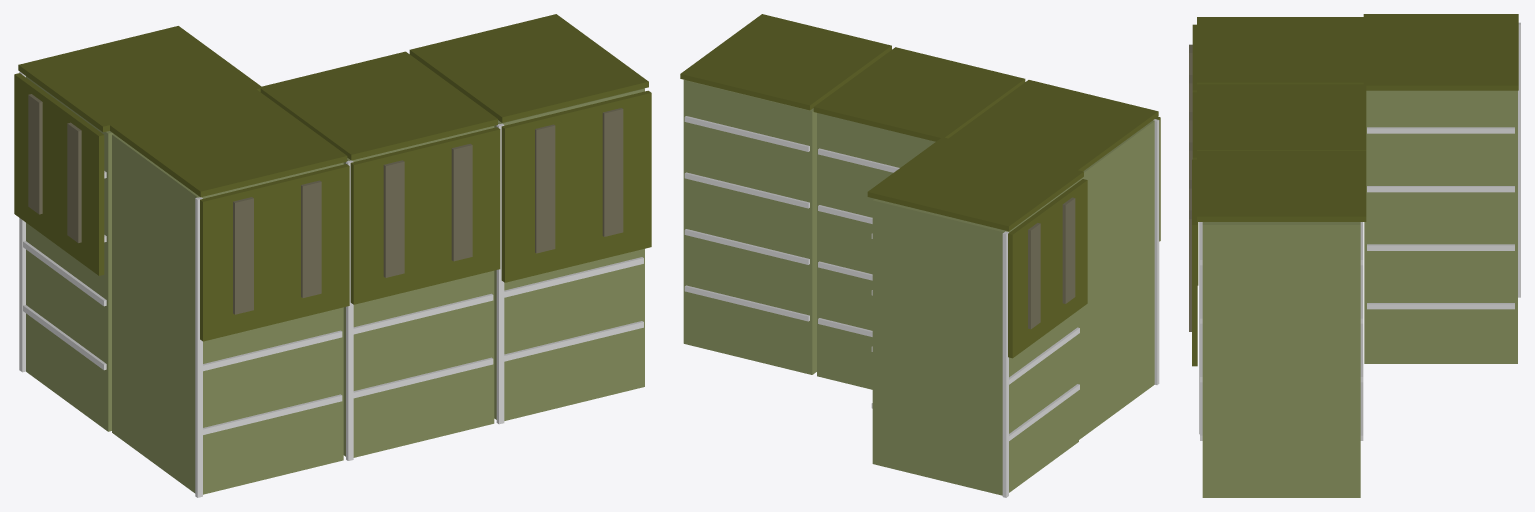
Rendered from SM_HescoRemate_v4_Red_e0_Sano_LOD0.fbx.
3 views of the same model, side by side, from view 1: azimuth 30°, elevation 25°; view 2: azimuth 150°, elevation 25°; view 3: azimuth 270°, elevation 25° (orthographic). The views are drawn at different scales.
Visible parts, largest first — view 1: SM_hesco_piezas_v36_LOD0; view 2: SM_hesco_piezas_v36_LOD0; view 3: SM_hesco_piezas_v36_LOD0.
Boxes of the visible parts, <box> form: SM_hesco_piezas_v36_LOD0: <box>14,14,651,497</box>; SM_hesco_piezas_v36_LOD0: <box>680,14,1160,497</box>; SM_hesco_piezas_v36_LOD0: <box>1189,14,1520,497</box>.
Bounding box in the file's own units: 3.41 × 2.16 × 2.31.
